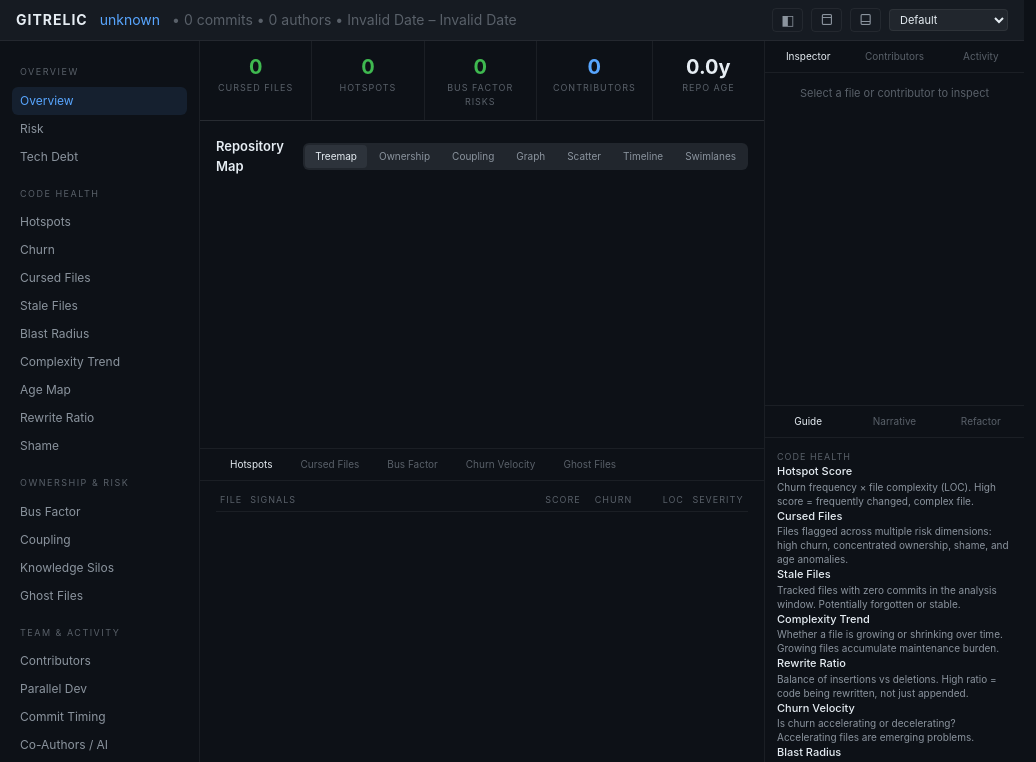
Scenario: Shell sidebar → preset wiring › overrides clear when another preset is clicked
Click the 1st button "Hotspots" at (100, 222), box [12,208,187,236]
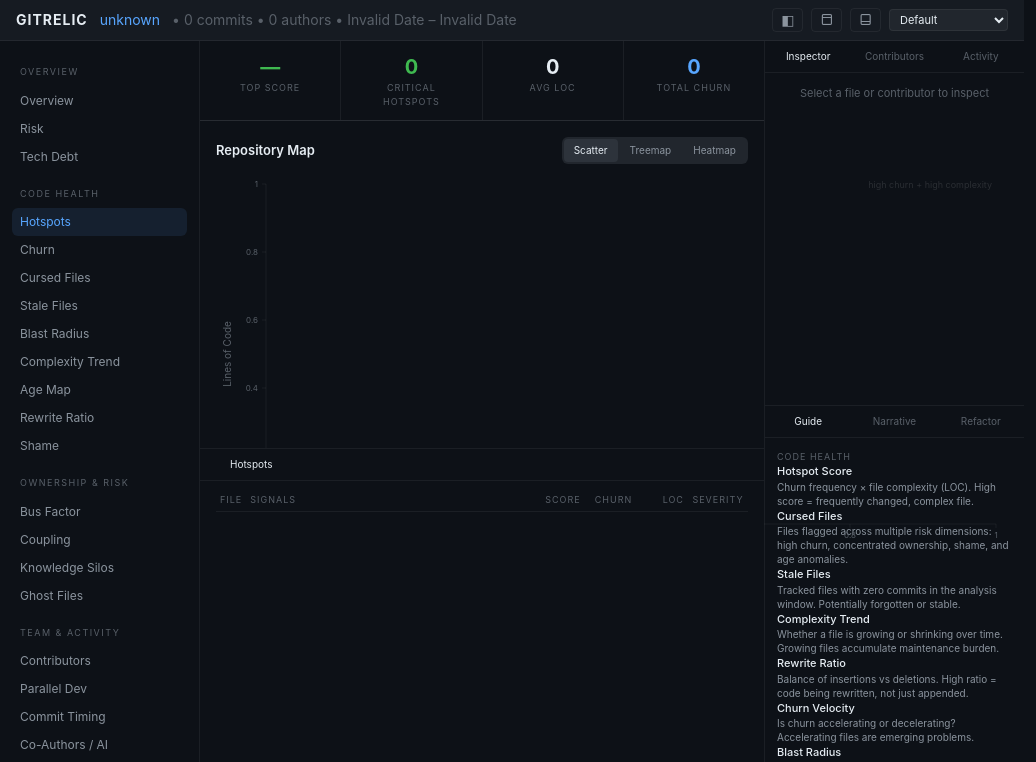
# Default hero for hotspots is Scatter. Override to Treemap.
Click the text "Treemap" at (650, 150), box [630,144,671,156]
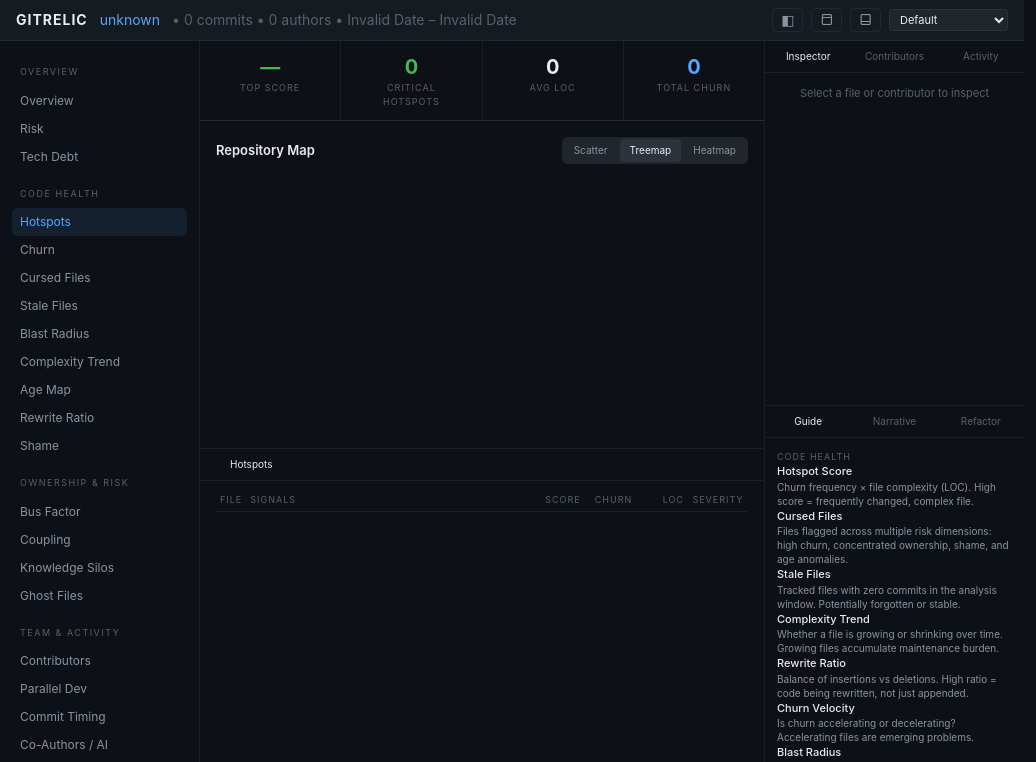
Click the button "Contributors" below "Team & Activity" at (100, 661), box [12,647,187,675]
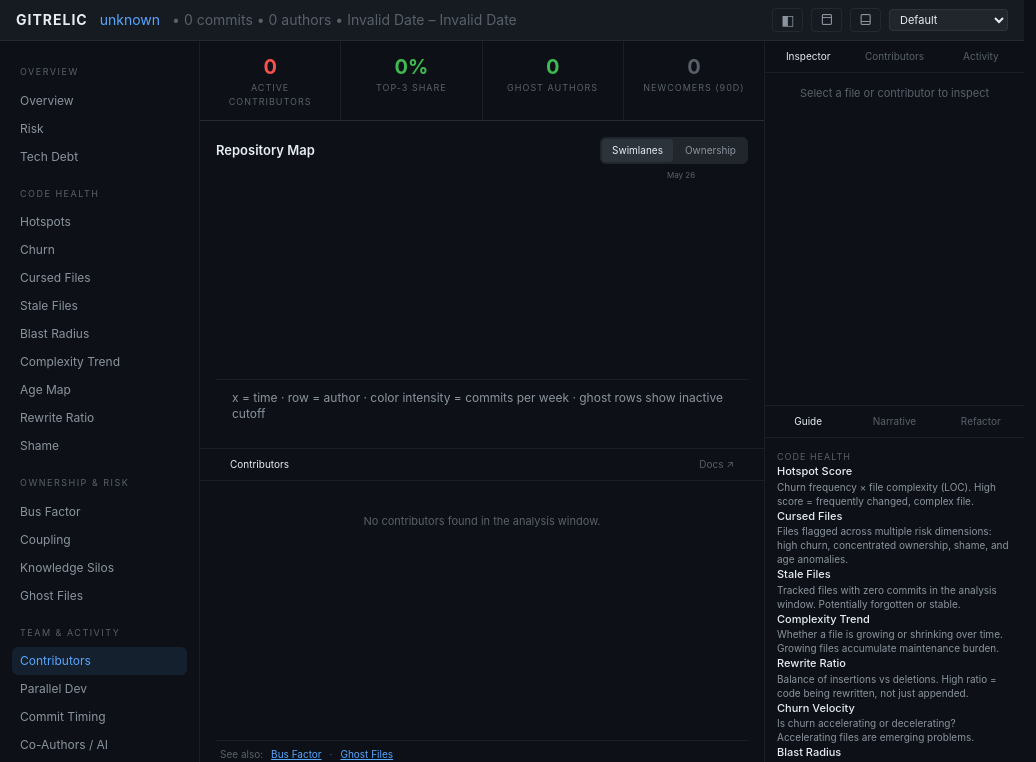
Check: the text "Ownership" is shown, box [685,144,736,156]
